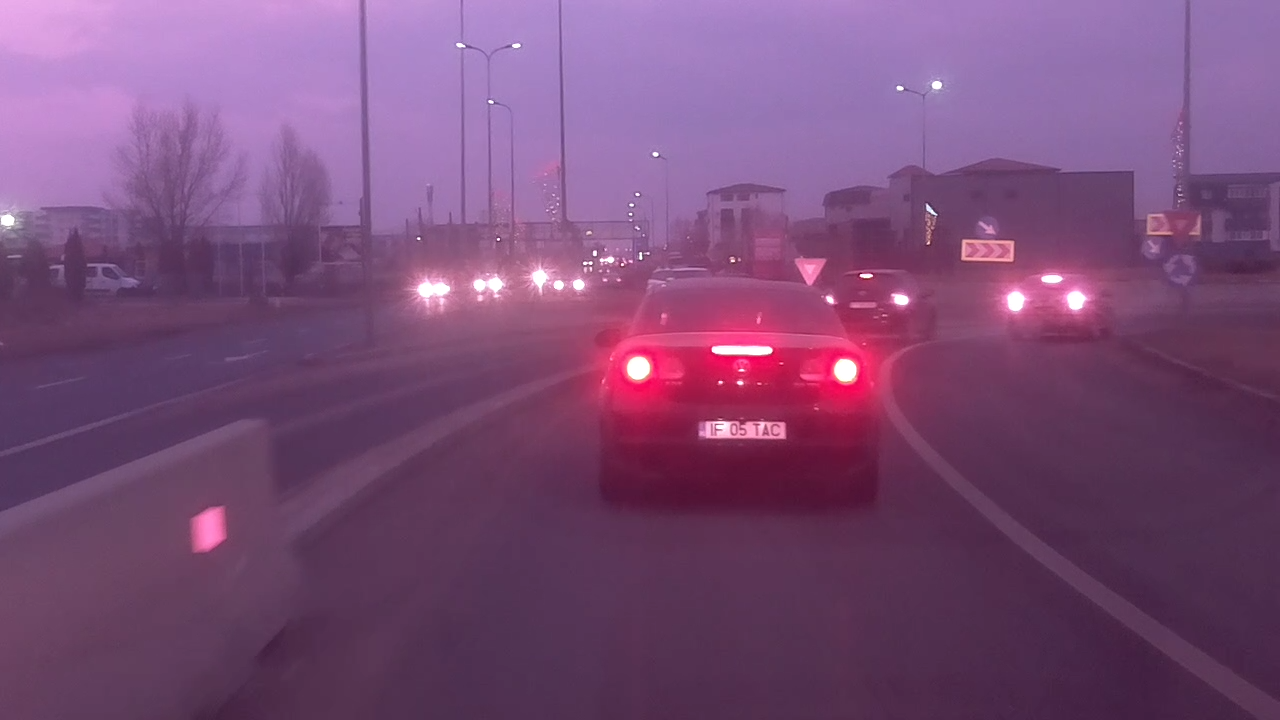license-plate: (692, 417, 790, 443)
